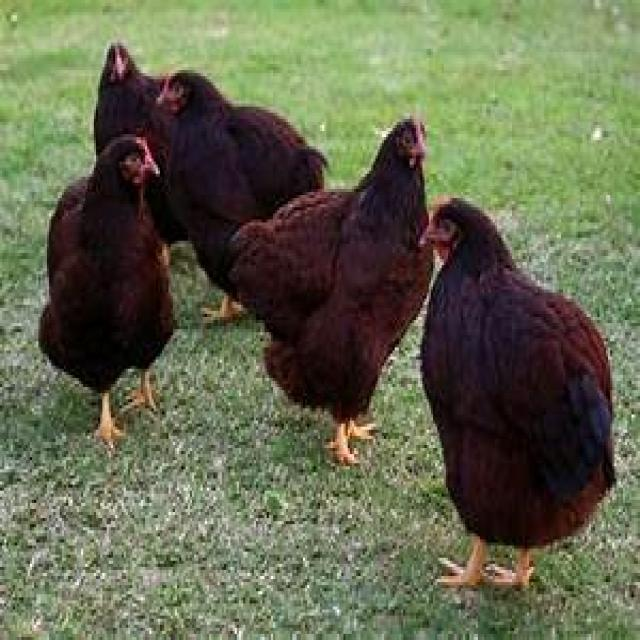hen: (222, 119, 471, 469), (418, 198, 617, 591), (38, 128, 175, 448), (149, 70, 326, 296)
